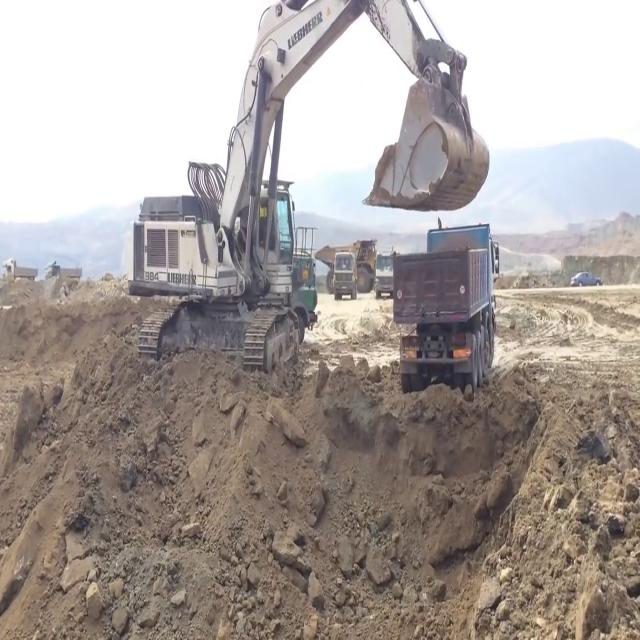excavator: (120, 1, 503, 380)
